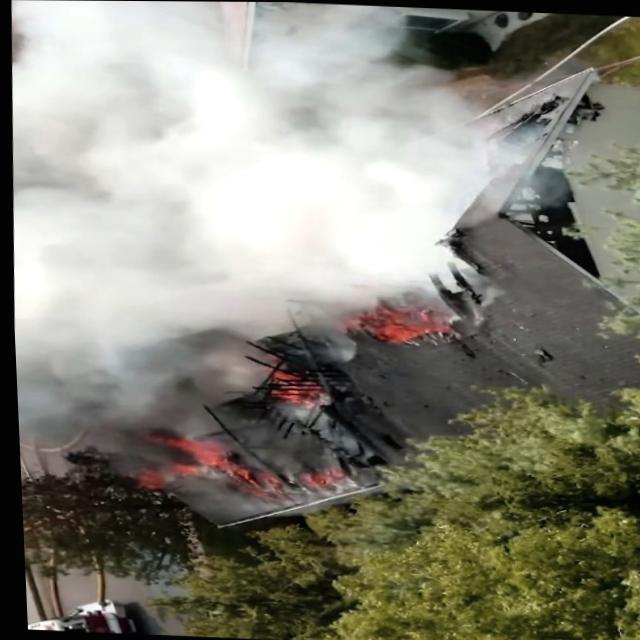smoke: (3, 51, 342, 293)
